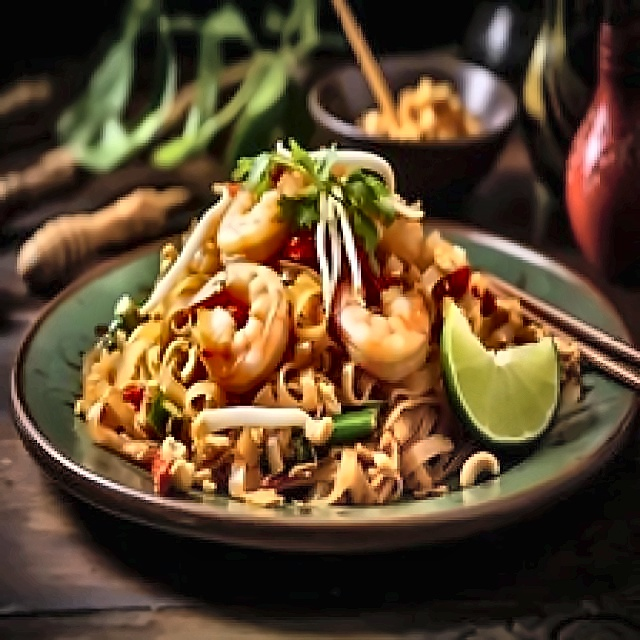lime_wedge: (440, 303, 557, 446)
noodle: (71, 142, 620, 508)
shrimp: (188, 259, 288, 392), (332, 283, 428, 383), (218, 189, 288, 260)
